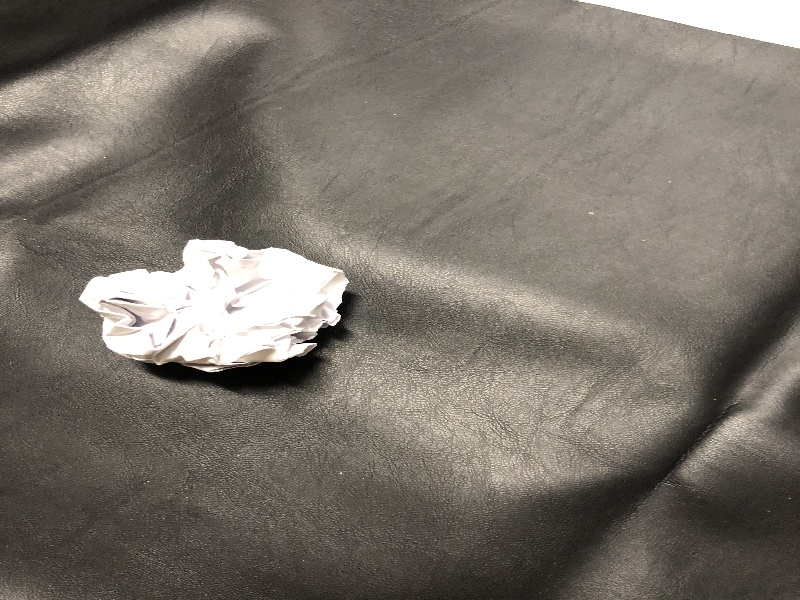paper: (74, 227, 358, 386)
